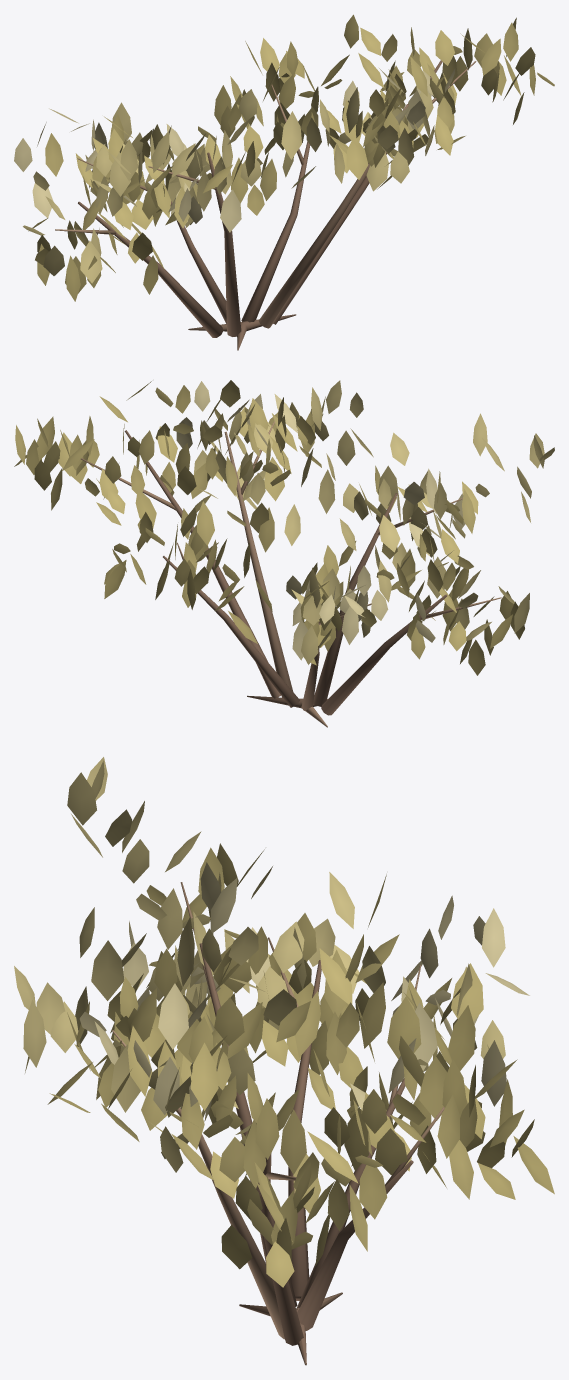
The model's file is bush_3d_02_yellow.glb.
3 renders of one model, top to bottom at view 1: azimuth 30°, elevation 25°; view 2: azimuth 150°, elevation 25°; view 3: azimuth 270°, elevation 25°, orthographic. The views are drawn at different scales.
Parts seen in each view (by area): view 1: bush_3d_02_yellow_foliage, bush_3d_02_yellow_wood; view 2: bush_3d_02_yellow_foliage, bush_3d_02_yellow_wood; view 3: bush_3d_02_yellow_foliage, bush_3d_02_yellow_wood.
Part boxes in pixels (bbox=[...]): bush_3d_02_yellow_foliage: bbox=[14, 14, 554, 301]; bush_3d_02_yellow_wood: bbox=[55, 60, 476, 350]; bush_3d_02_yellow_foliage: bbox=[14, 380, 554, 675]; bush_3d_02_yellow_wood: bbox=[81, 421, 501, 727]; bush_3d_02_yellow_foliage: bbox=[14, 757, 554, 1287]; bush_3d_02_yellow_wood: bbox=[112, 882, 444, 1365].
Bounding box in the file's own units: 3.11 × 1.63 × 1.82.
